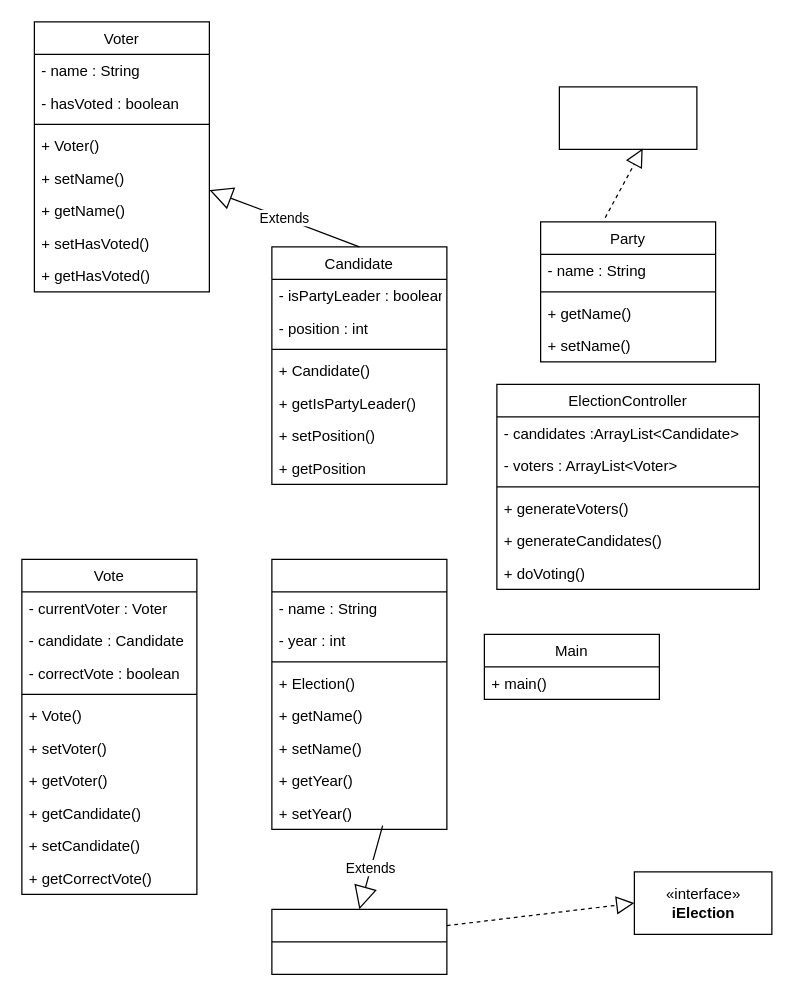
This 794x1000 diagram has some shape labels left out. Here are the shapes that lost their labels. From the top down, the box of each, then its label:
(558, 86, 697, 149): «interface» iParty
(271, 558, 447, 829): Election2021
(271, 908, 447, 974): Election (abstract)
